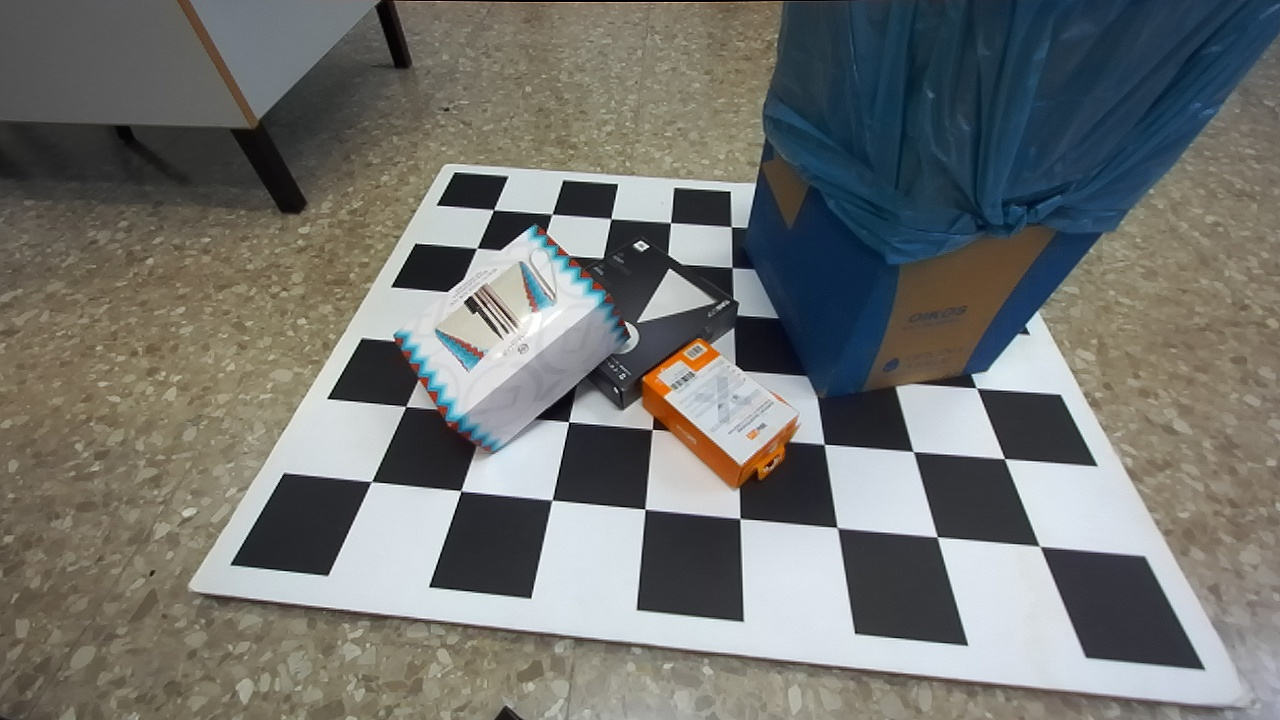caja_busbar: (395, 225, 628, 451)
caja_manguera: (588, 236, 736, 408)
caja_pcb: (642, 339, 797, 487)
